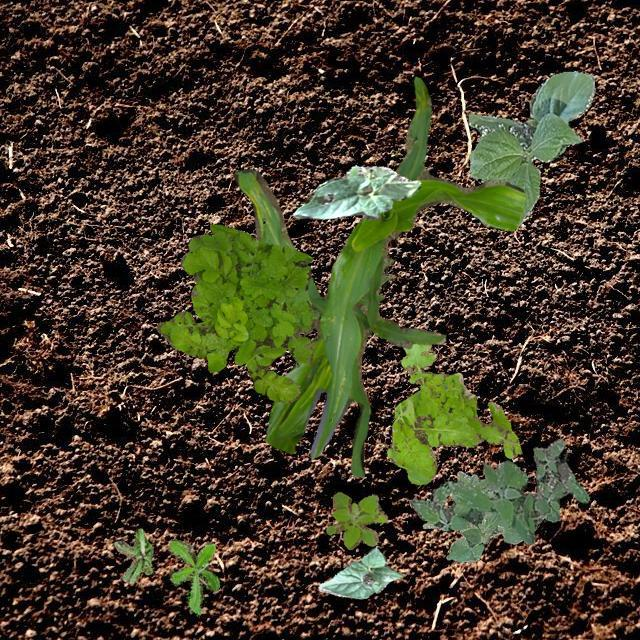crop: (232, 76, 524, 476), (468, 70, 594, 226), (422, 471, 522, 562), (292, 164, 420, 218), (318, 546, 402, 598), (379, 258, 394, 284)
weed: (156, 224, 318, 402), (408, 438, 588, 544), (386, 342, 520, 484), (168, 538, 218, 614), (326, 491, 386, 548), (114, 528, 152, 582)
